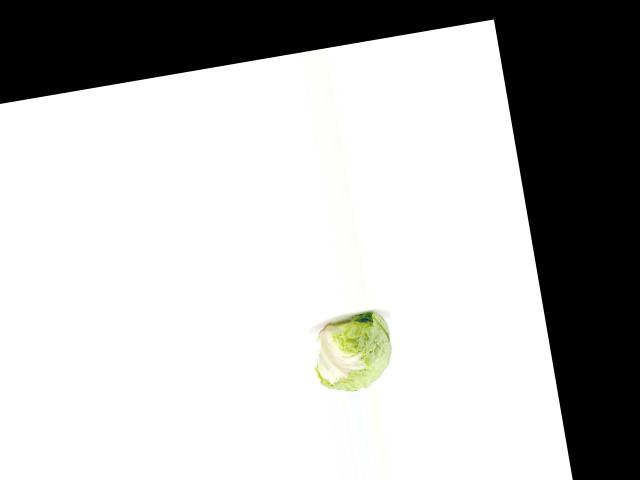lettuce: (305, 304, 400, 396)
